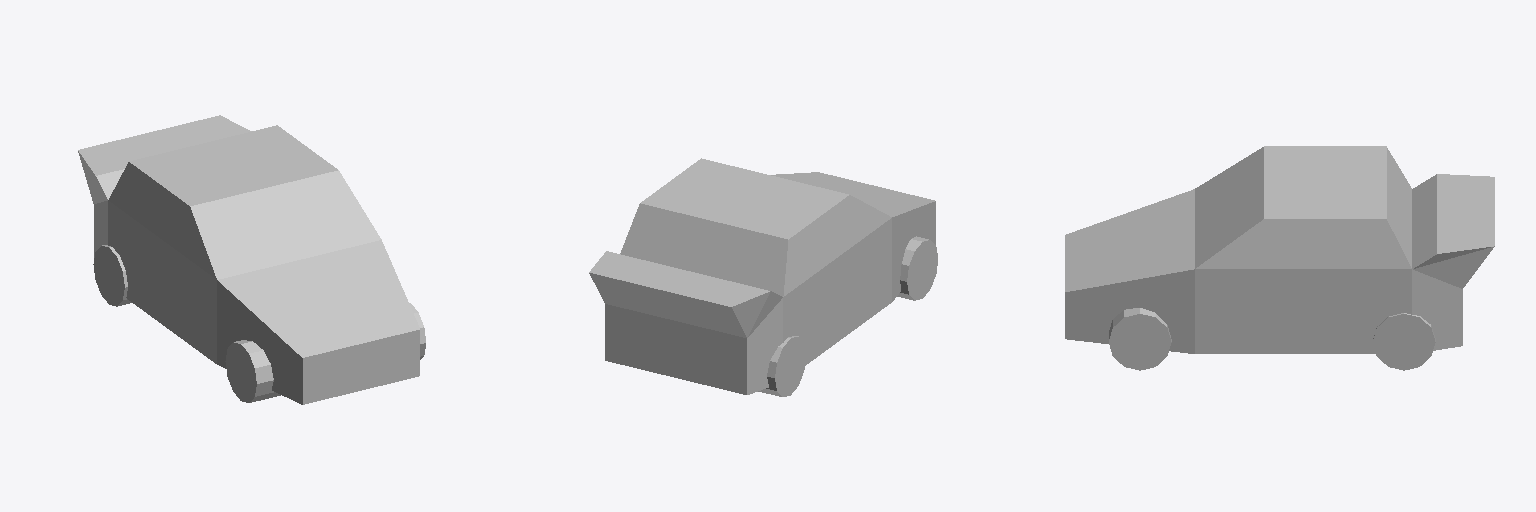
The model's file is car1.obj.
3 renders of one model, left to right at view 1: azimuth 30°, elevation 25°; view 2: azimuth 150°, elevation 25°; view 3: azimuth 270°, elevation 25°, orthographic.
Size of the model in its own units: 2.09 by 1.73 by 4.59.